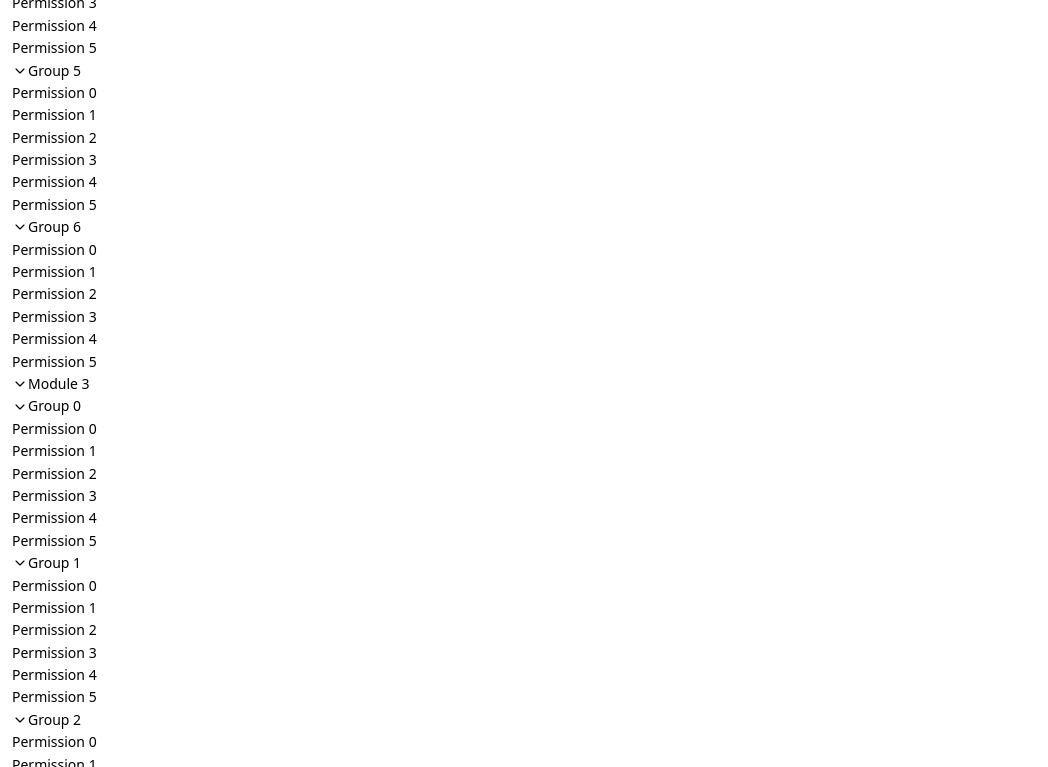
Test: FlarePermissionTree › stays responsive on a thousand nodes: mounting, toggling a module and searching
The image size is (1048, 767).
(page scrolled)
Click the list item "Module 3".
click(51, 384)  # box [12,374,90,393]
(page scrolled)
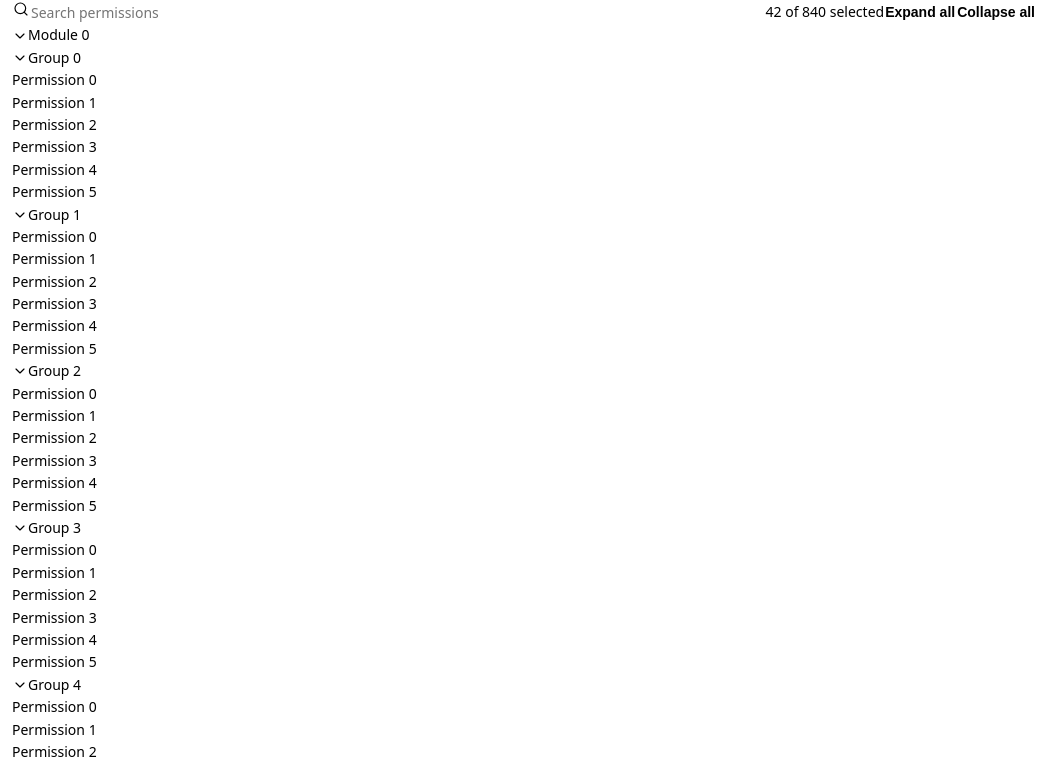
Type "Permission 5" into the search field with placeholder "Search permissions".
click(397, 12); type("Permission 5")  # box [29,2,764,23]
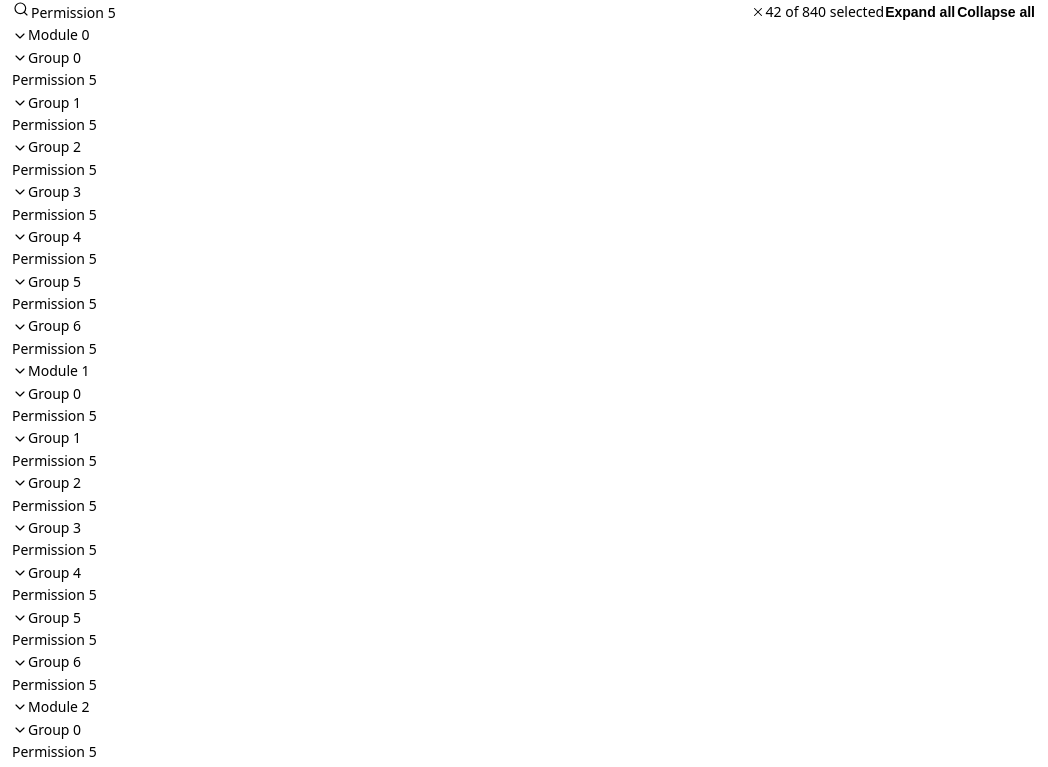
Expected: the number of list items is 300
